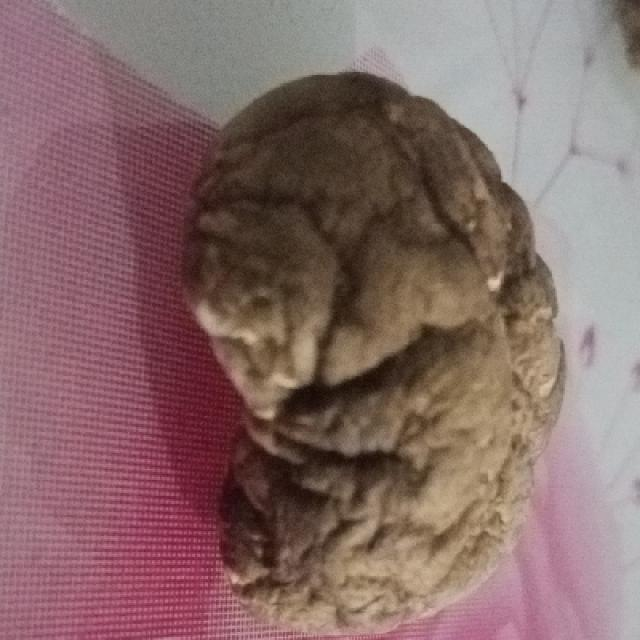Lentinus edodes: (188, 72, 566, 635)
